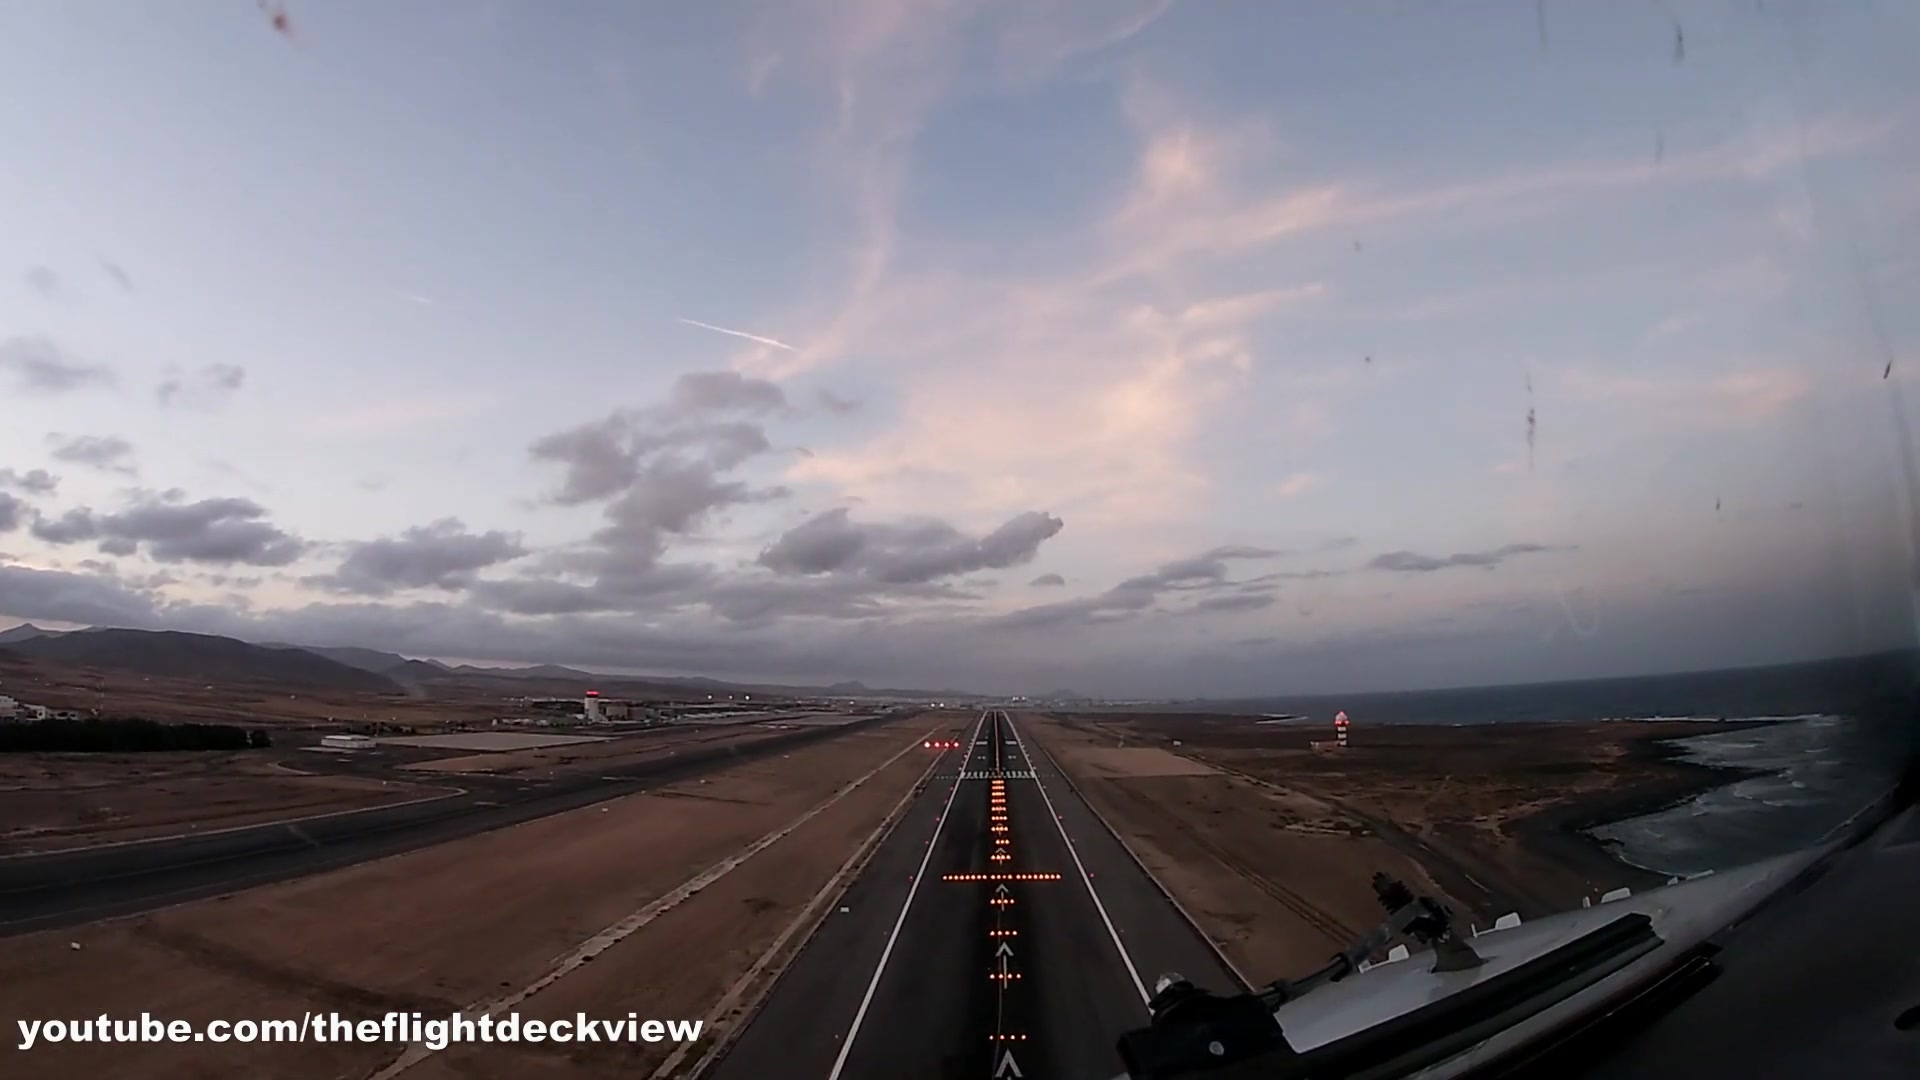entrance: (959, 769, 1035, 779)
runway: (953, 708, 1048, 781)
